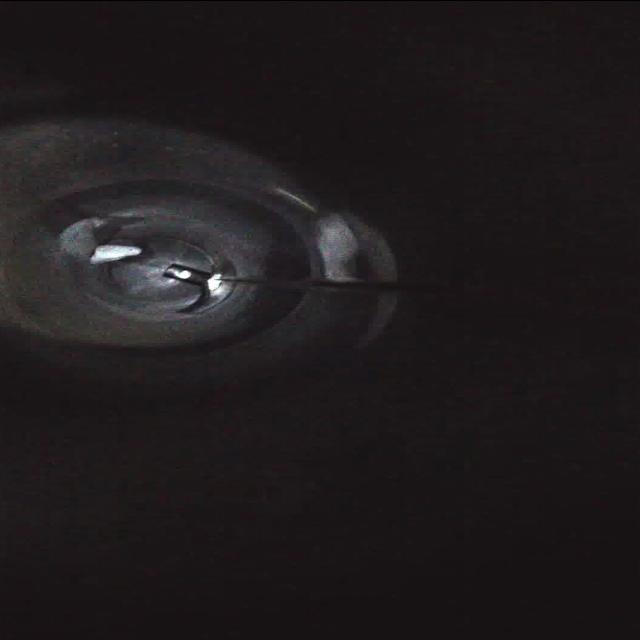impurity: (81, 240, 147, 268)
